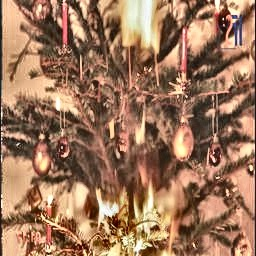fire: (94, 172, 180, 248)
